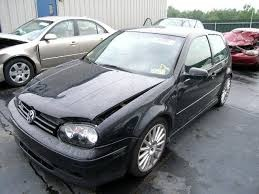Dent: (25, 88, 152, 128)
